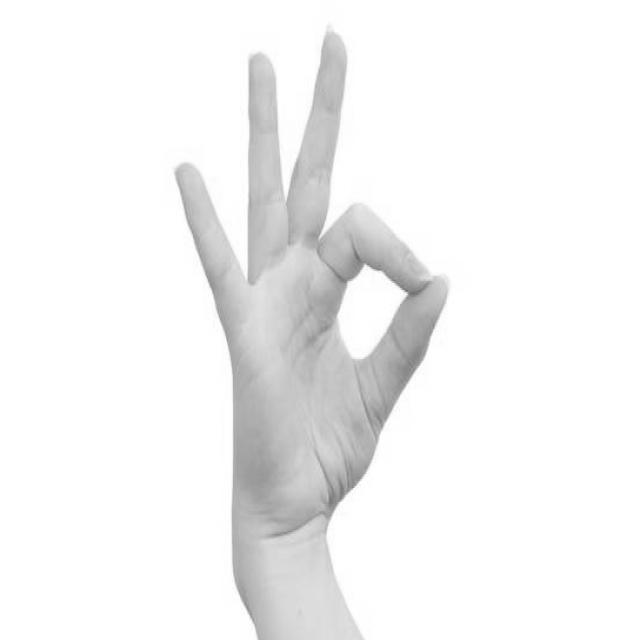perfect: (169, 23, 456, 554)
